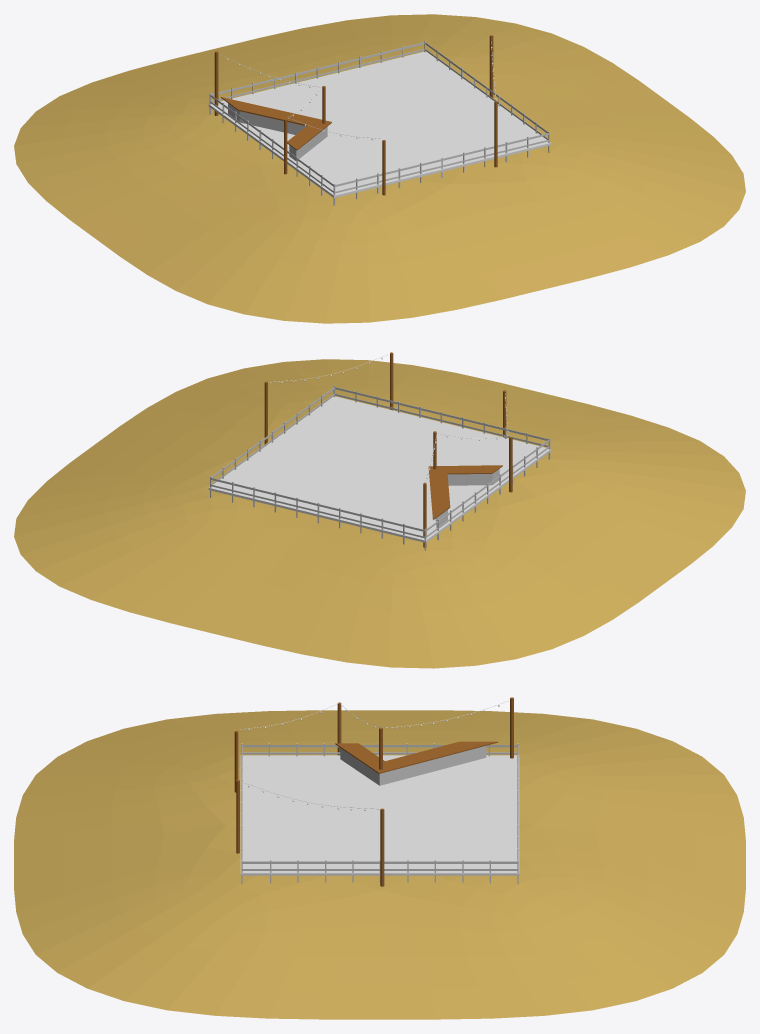
3 renders of one model, top to bottom at view 1: azimuth 30°, elevation 25°; view 2: azimuth 150°, elevation 25°; view 3: azimuth 270°, elevation 25°, orthographic. The views are drawn at different scales.
Parts seen in each view (by area): view 1: Sand, Floor, Top, Construction.003, Construction.001, Base, Construction.000, Construction.002; view 2: Sand, Floor, Construction.001, Top, Construction.003, Construction.000, Construction.002, Base; view 3: Sand, Floor, Base, Top, Construction.002, Construction.000.
Boxes of the visible parts, x1,y1,x2,y2 form: Sand: [14, 14, 745, 323]; Floor: [208, 51, 551, 197]; Top: [221, 97, 331, 150]; Construction.003: [335, 131, 549, 199]; Construction.001: [209, 42, 424, 114]; Base: [228, 103, 327, 161]; Construction.000: [210, 95, 335, 205]; Construction.002: [424, 40, 548, 139]; Sand: [14, 359, 745, 668]; Floor: [208, 396, 551, 542]; Construction.001: [211, 478, 426, 550]; Top: [428, 465, 502, 519]; Construction.003: [333, 385, 548, 447]; Construction.000: [426, 438, 550, 540]; Construction.002: [210, 387, 334, 497]; Base: [435, 469, 499, 528]; Sand: [14, 710, 745, 1019]; Floor: [240, 755, 519, 875]; Base: [340, 746, 486, 785]; Top: [335, 741, 497, 773]; Construction.002: [242, 860, 518, 884]; Construction.000: [241, 743, 517, 756].
Size of what is drawn, in the model's own units: 2625 by 515 by 2625.
